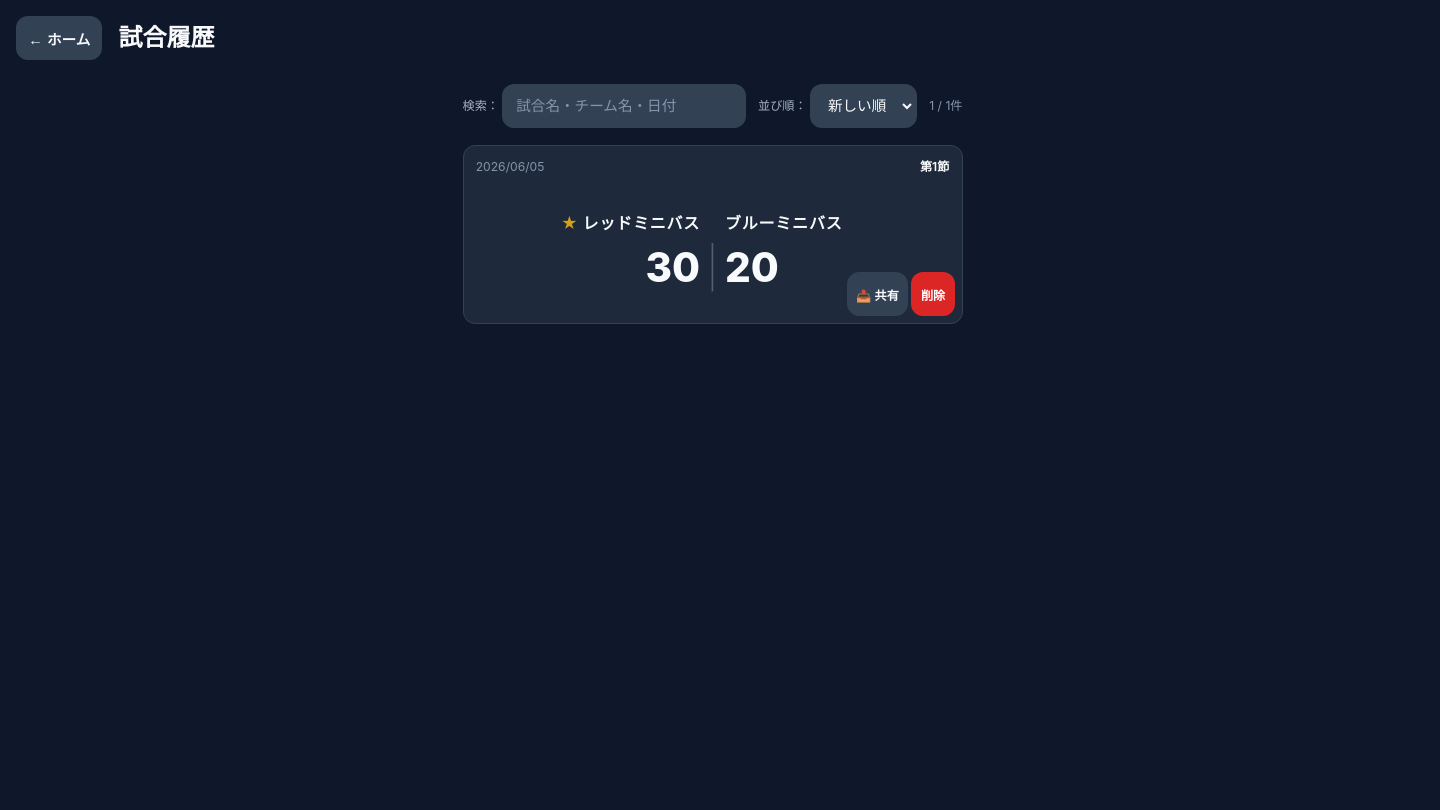
Test: 試合履歴のカード › 削除は確認してから実行する（カードは開かない）
This screenshot has width=1440, height=810.
Click the button "削除" at [933, 294], box [911,272,955,316]
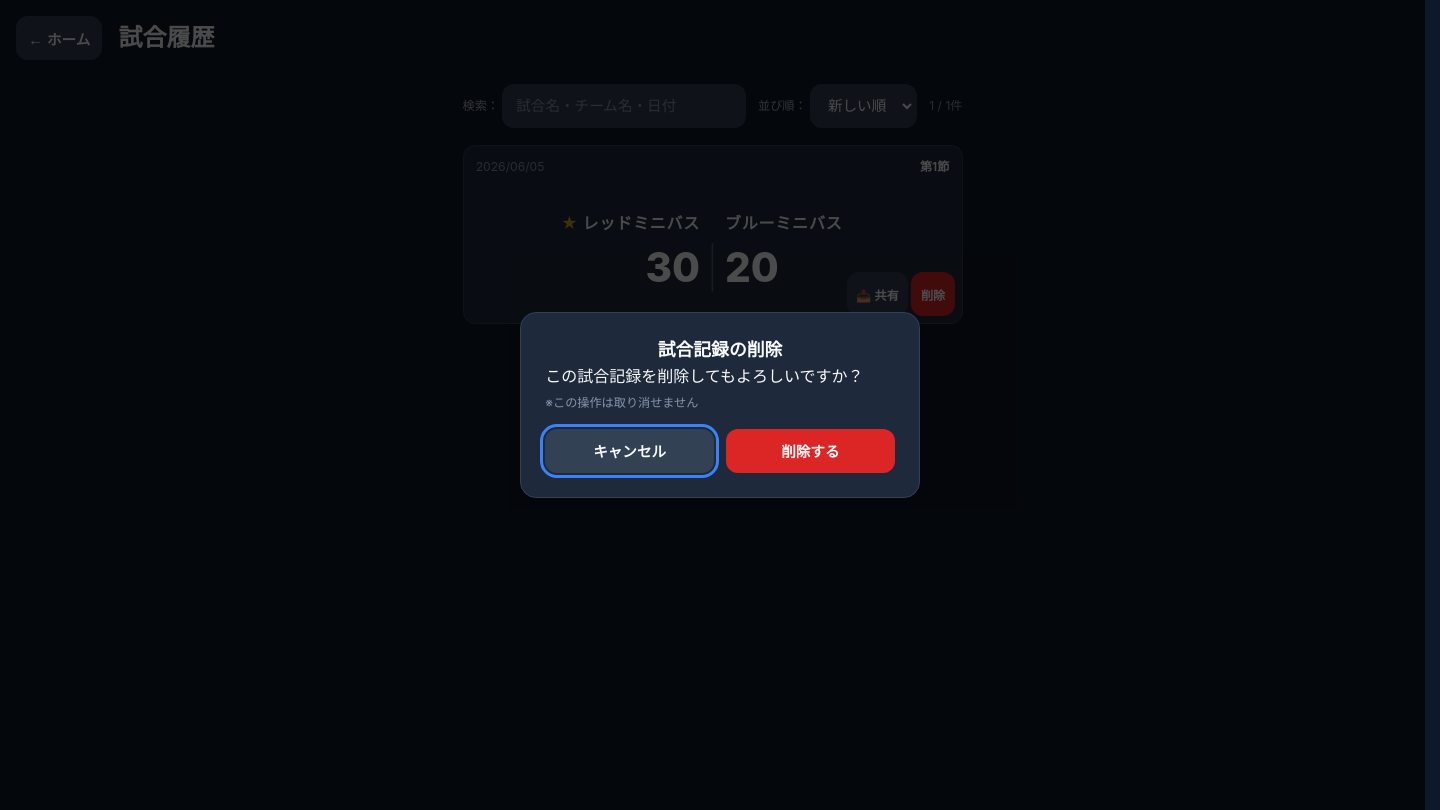
Expected: the dialog is shown, [520,312,920,498]
